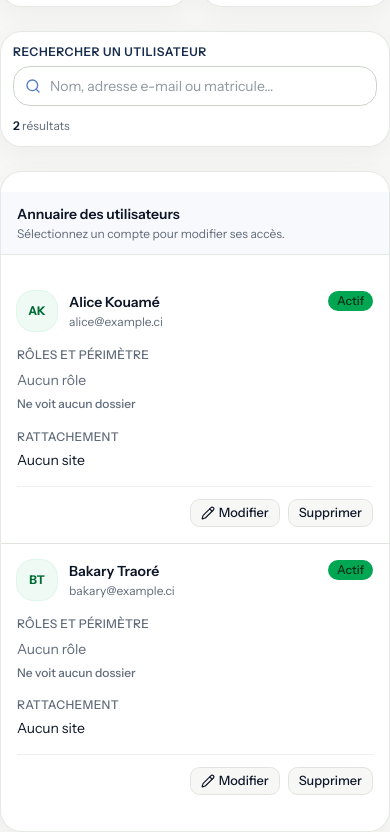
⚠️ Ce que ce compte verra — en lecture seule › n’annonce rien tant qu’aucun rôle n’est coché
(page scrolled)
Click the button "Modifier" below "Alice Kouamé" at (235, 513), box [190, 499, 280, 527]
(page scrolled)
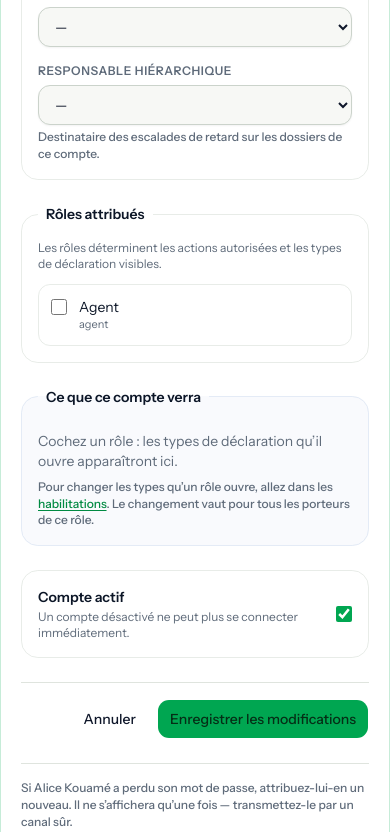
Now the text "Cochez un rôle" is shown, box [38, 432, 322, 470]
